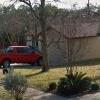Tree: (8, 0, 83, 34)
